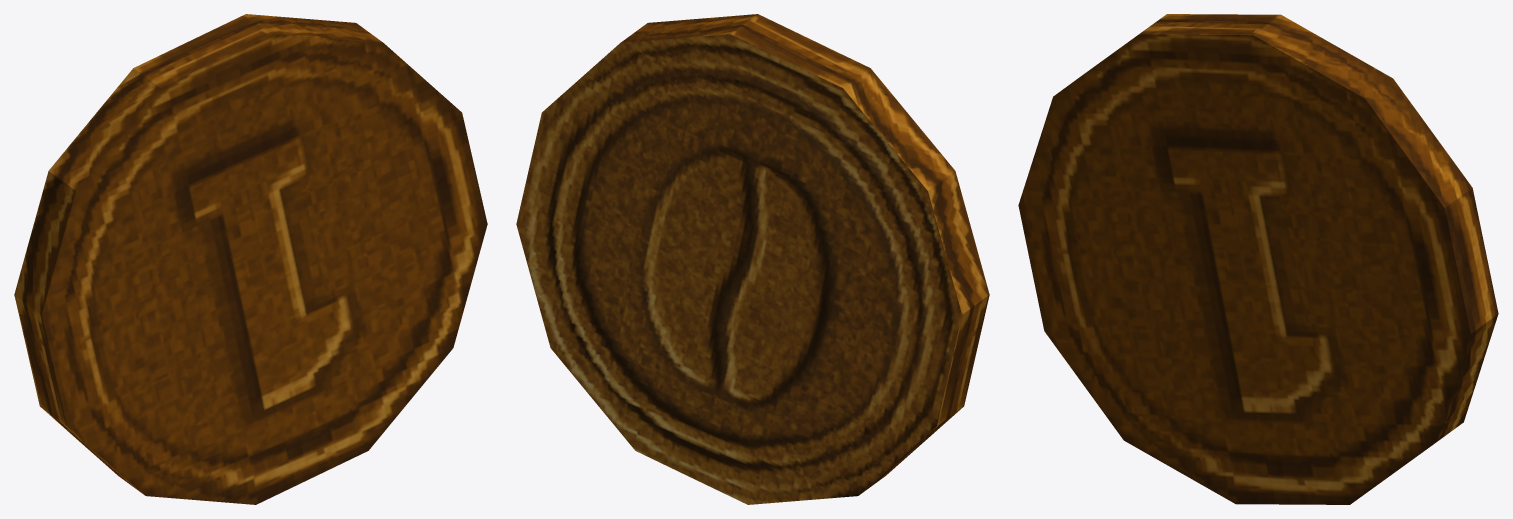
Rendered from coin.fbx.
The picture shows the model from 3 angles, left to right: view 1: azimuth 30°, elevation 25°; view 2: azimuth 150°, elevation 25°; view 3: azimuth 330°, elevation 25°; orthographic projection.
Parts seen in each view (by area): view 1: Coin; view 2: Coin; view 3: Coin.
Part boxes in pixels (x1=…): Coin: x1=14, y1=14, x2=487, y2=504; Coin: x1=516, y1=14, x2=989, y2=504; Coin: x1=1018, y1=14, x2=1498, y2=504.
Size of the model in its own units: 10.3 by 10.3 by 1.1.
